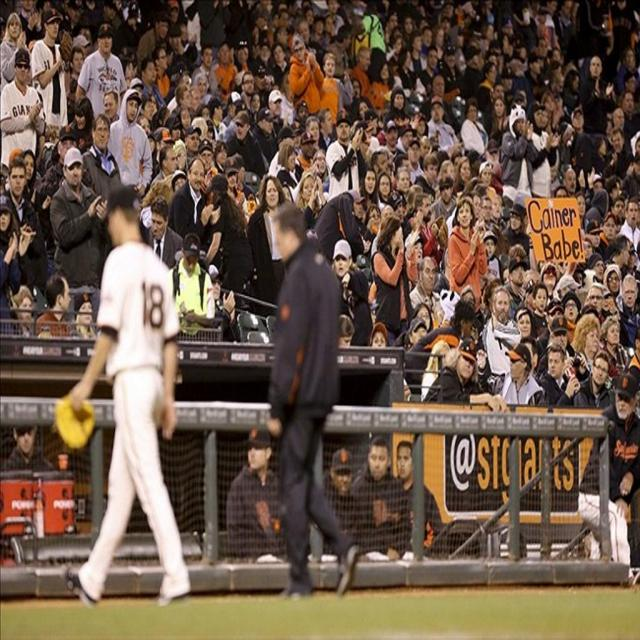nomask: (273, 222, 293, 263), (368, 445, 386, 480), (396, 445, 414, 480), (106, 208, 122, 245), (246, 442, 266, 470), (615, 390, 633, 420), (334, 464, 352, 494), (16, 425, 34, 453), (94, 120, 110, 150), (17, 294, 32, 324), (66, 159, 82, 187), (458, 350, 473, 379), (10, 165, 24, 196), (520, 342, 534, 373), (411, 323, 427, 350), (189, 160, 203, 190), (495, 290, 509, 320), (333, 251, 349, 277), (421, 260, 435, 289), (547, 350, 562, 377), (60, 137, 76, 162), (265, 178, 279, 206), (593, 358, 607, 386), (302, 175, 317, 201), (184, 246, 198, 273), (164, 147, 178, 174), (416, 306, 430, 333), (585, 326, 599, 353), (78, 299, 92, 325), (622, 282, 636, 308), (151, 210, 164, 237), (548, 308, 563, 331), (199, 145, 212, 171), (589, 287, 602, 313), (338, 331, 352, 355), (372, 331, 386, 355), (208, 275, 221, 300), (509, 354, 523, 377), (61, 278, 71, 310), (458, 203, 471, 227), (518, 314, 531, 338), (376, 152, 388, 177), (364, 170, 376, 195), (463, 314, 473, 344), (604, 215, 616, 240), (104, 95, 116, 119), (126, 97, 138, 121), (444, 161, 456, 185), (526, 286, 538, 310), (564, 298, 577, 320), (16, 58, 28, 81), (22, 154, 33, 179), (420, 196, 431, 221), (627, 202, 638, 227), (99, 32, 112, 53), (336, 119, 349, 140), (511, 264, 524, 285), (606, 323, 619, 344), (46, 17, 58, 39), (459, 159, 470, 183), (534, 289, 546, 311), (606, 270, 618, 292), (173, 176, 186, 196), (620, 239, 630, 265), (565, 170, 576, 193), (74, 108, 86, 129), (144, 60, 156, 81), (308, 119, 320, 140), (72, 50, 83, 72), (324, 55, 335, 77), (379, 174, 390, 196), (368, 207, 379, 229), (612, 131, 623, 153), (187, 132, 199, 152), (323, 109, 333, 133), (393, 223, 403, 247), (429, 103, 442, 121), (543, 268, 556, 286), (202, 47, 213, 68), (315, 152, 326, 173), (392, 202, 403, 223), (124, 61, 134, 84), (220, 43, 230, 66), (398, 169, 408, 192), (482, 198, 492, 221), (235, 120, 247, 139), (302, 137, 314, 156), (462, 293, 474, 312), (157, 18, 168, 38), (139, 118, 149, 140), (360, 49, 370, 71), (402, 129, 413, 149), (408, 142, 419, 162), (412, 241, 422, 263), (502, 269, 513, 289), (592, 258, 602, 280), (589, 227, 600, 247), (575, 194, 585, 216), (230, 102, 242, 120), (509, 212, 521, 230), (157, 47, 167, 68), (243, 73, 253, 94), (556, 188, 566, 209), (533, 107, 543, 128), (614, 110, 624, 131), (179, 75, 190, 94), (270, 96, 281, 115), (440, 183, 451, 202), (452, 155, 463, 174), (0, 210, 10, 230), (216, 144, 226, 164), (255, 70, 265, 90), (261, 113, 271, 133), (250, 25, 260, 45), (299, 21, 309, 41), (426, 161, 436, 181), (484, 238, 494, 258), (611, 181, 621, 201), (491, 196, 500, 218), (196, 78, 206, 97), (226, 168, 236, 187), (250, 92, 260, 111), (298, 105, 308, 124), (279, 28, 289, 47), (428, 49, 438, 68), (434, 78, 444, 97), (387, 126, 397, 145), (352, 198, 362, 217), (481, 168, 491, 187), (614, 199, 624, 218), (590, 57, 600, 76), (574, 110, 584, 129), (623, 93, 633, 112), (626, 247, 635, 268), (9, 19, 19, 37), (168, 4, 178, 22), (70, 5, 80, 23), (200, 108, 210, 126), (273, 44, 283, 62), (279, 10, 289, 28), (388, 12, 398, 30), (403, 16, 413, 34), (446, 50, 456, 68), (494, 98, 504, 116), (420, 140, 430, 158), (383, 209, 393, 227), (581, 241, 591, 259), (494, 86, 504, 104), (514, 116, 524, 134), (544, 92, 554, 110), (537, 38, 547, 56), (570, 74, 580, 92), (359, 102, 370, 118), (472, 196, 480, 218), (552, 94, 563, 110), (181, 111, 190, 130), (351, 80, 360, 99), (182, 89, 192, 106), (204, 127, 214, 144), (294, 42, 304, 59), (393, 93, 403, 110), (554, 80, 564, 97), (171, 124, 180, 142), (423, 30, 432, 48), (468, 103, 477, 121), (488, 54, 497, 72), (488, 64, 497, 82), (593, 180, 602, 198), (105, 4, 115, 20), (144, 100, 152, 120), (286, 150, 294, 170), (259, 42, 269, 58), (380, 62, 390, 78), (415, 119, 425, 135), (488, 148, 498, 164), (514, 98, 524, 114), (563, 128, 572, 145), (207, 187, 216, 204), (148, 95, 156, 114), (403, 49, 411, 68), (170, 33, 180, 48), (492, 44, 502, 59), (133, 84, 141, 102), (214, 102, 222, 120), (286, 67, 295, 83), (305, 9, 314, 25), (574, 270, 582, 288), (503, 74, 512, 90), (503, 24, 512, 40), (531, 57, 540, 73), (540, 110, 548, 128), (627, 74, 635, 92), (128, 8, 138, 22), (146, 136, 154, 153), (343, 32, 351, 49), (552, 49, 560, 66), (237, 49, 246, 64), (441, 17, 450, 32), (419, 19, 428, 34), (443, 4, 452, 19), (436, 27, 443, 46), (325, 16, 333, 32), (394, 37, 402, 53), (414, 34, 422, 50), (486, 24, 494, 40), (456, 30, 464, 46), (564, 0, 572, 16), (315, 19, 323, 34), (625, 49, 633, 64), (328, 0, 337, 13), (273, 12, 281, 26), (599, 138, 606, 154), (21, 0, 33, 9), (471, 51, 478, 66), (302, 1, 310, 14), (549, 1, 557, 14), (521, 8, 528, 22), (544, 28, 552, 40), (634, 158, 640, 174), (502, 35, 509, 48), (519, 48, 526, 61), (362, 129, 369, 142), (257, 13, 264, 25), (464, 14, 471, 26), (80, 44, 86, 57), (635, 138, 640, 153), (540, 12, 546, 22), (486, 0, 492, 8)
